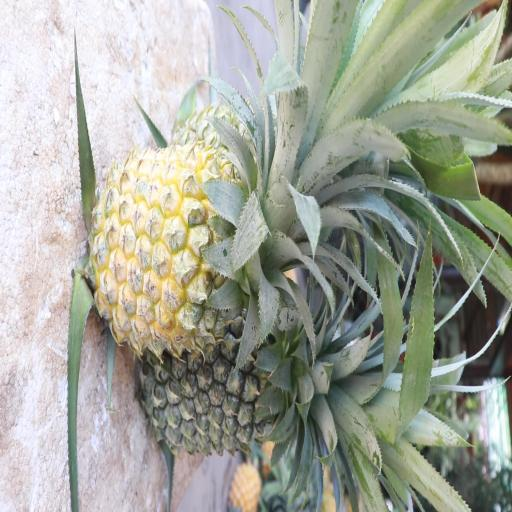Pineapple - v8 v1: (92, 146, 317, 344)
